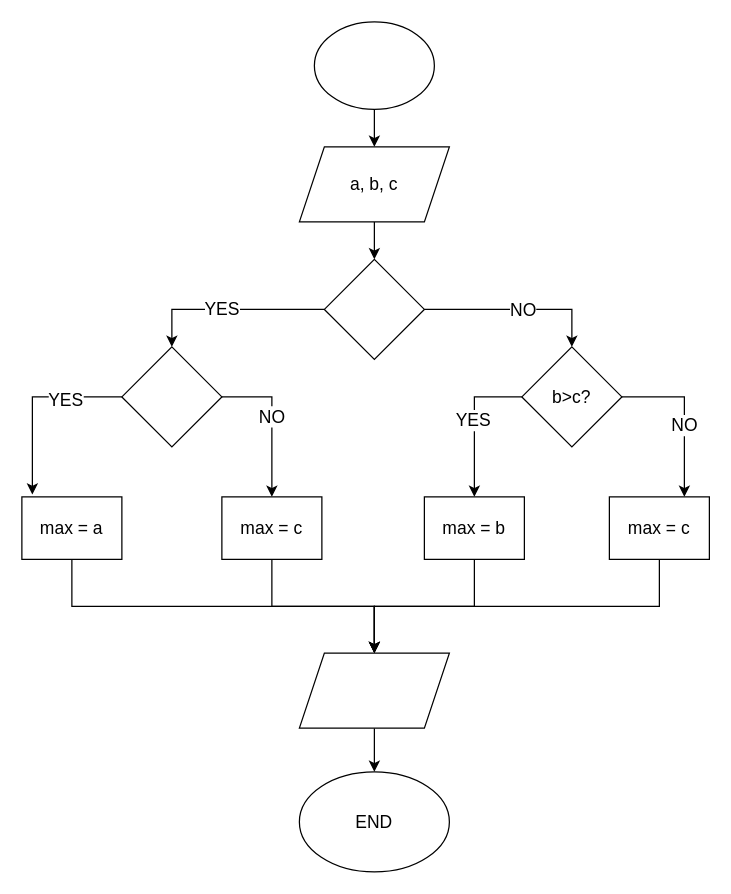
This 731x894 diagram has some shape labels left out. Each missing label, with the box of its shape:
a>b?: (323, 258, 424, 359)
a>c?: (121, 346, 222, 447)
print max: (298, 652, 449, 728)
Start: (313, 21, 434, 109)
